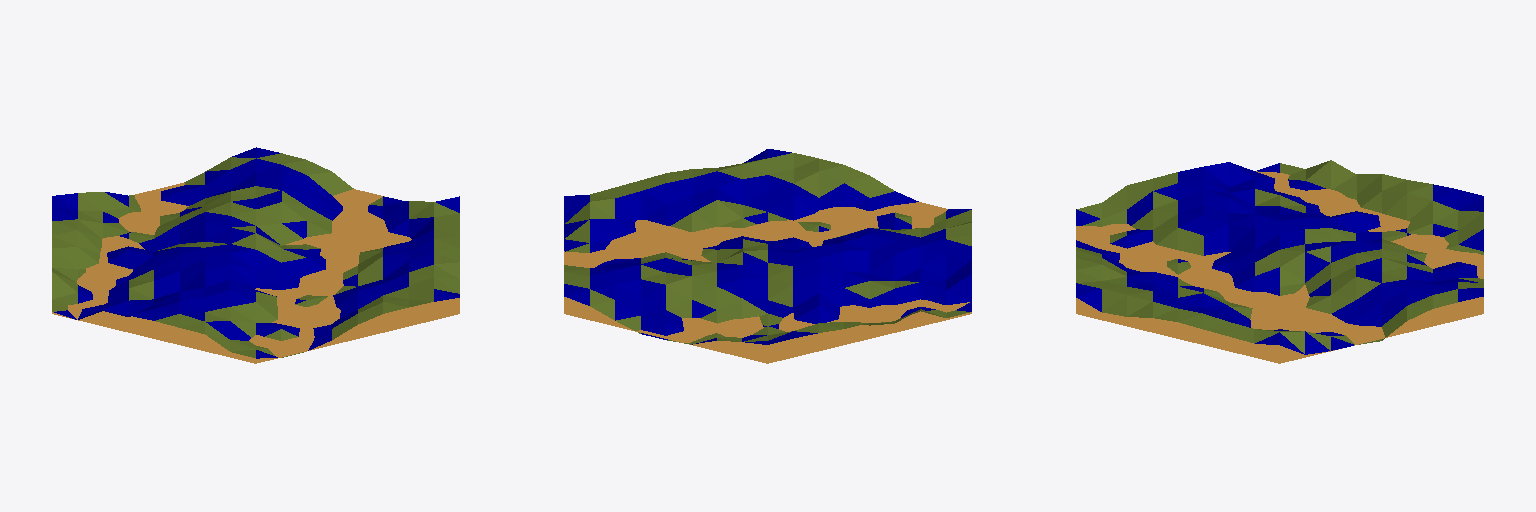
The model's file is swamp1.obj.
3 views of the same model, side by side, from view 1: azimuth 30°, elevation 25°; view 2: azimuth 150°, elevation 25°; view 3: azimuth 270°, elevation 25° (orthographic).
Parts seen in each view (by area): view 1: Circle; view 2: Circle; view 3: Circle.
Part boxes in pixels (x1,y1,x2,y2): Circle: (52, 147, 459, 363); Circle: (564, 149, 971, 363); Circle: (1076, 160, 1483, 363).
Bounding box in the file's own units: 2 × 0.1 × 1.73.